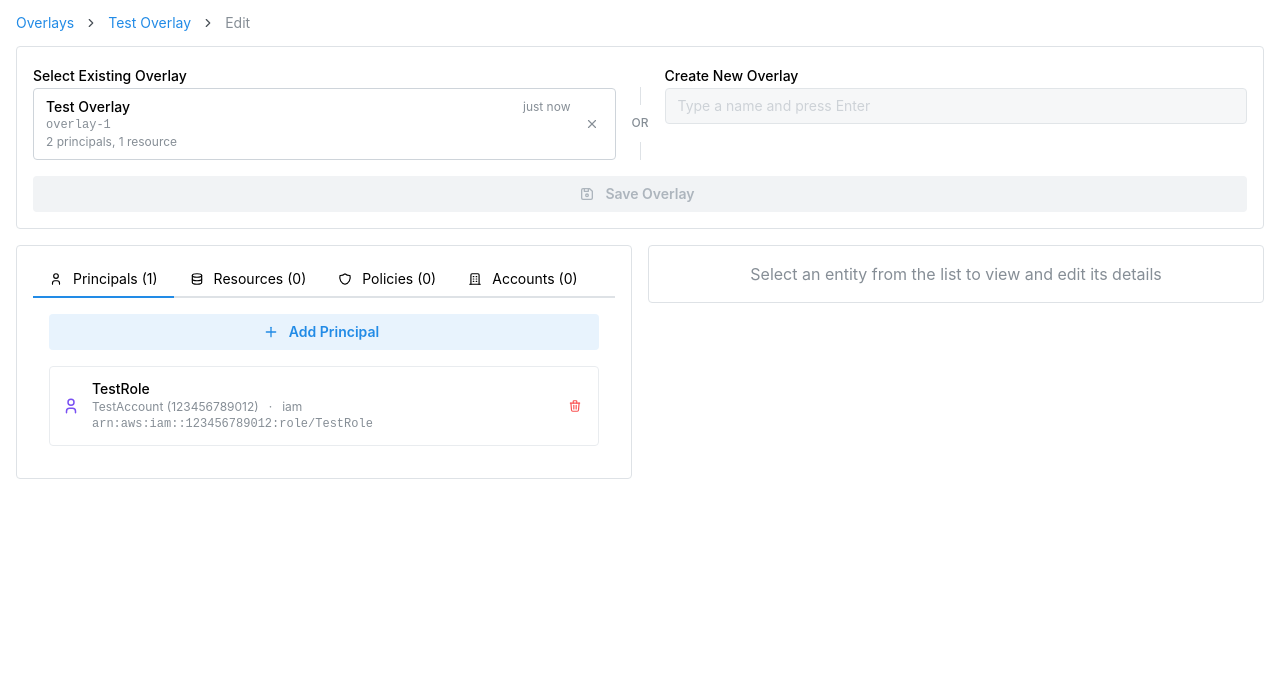
it: OverlayEditorPage › Entity Selection › shows detail panel when entity is selected
Note: Click on the principal
Click the text "TestRole": (121, 388) [92,380,150,397]
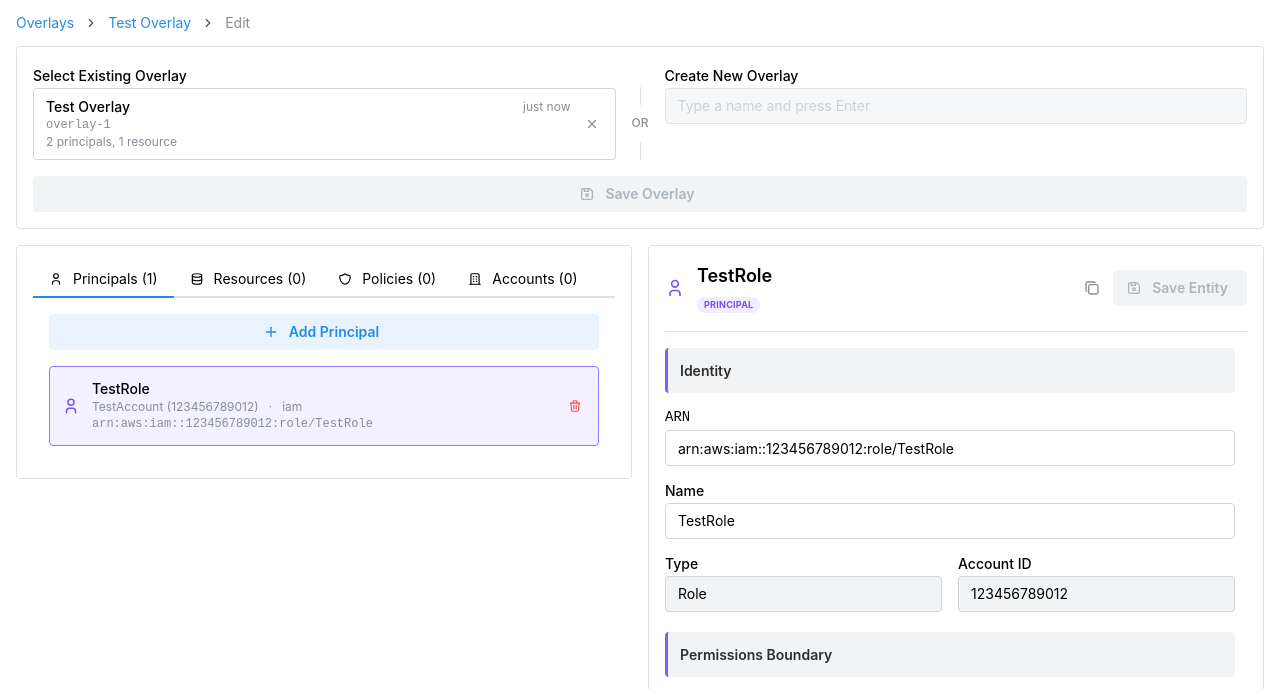
Expected: the field showing "arn:aws:iam::123456789012:role/TestRole" is shown, [665,430,1235,466]
